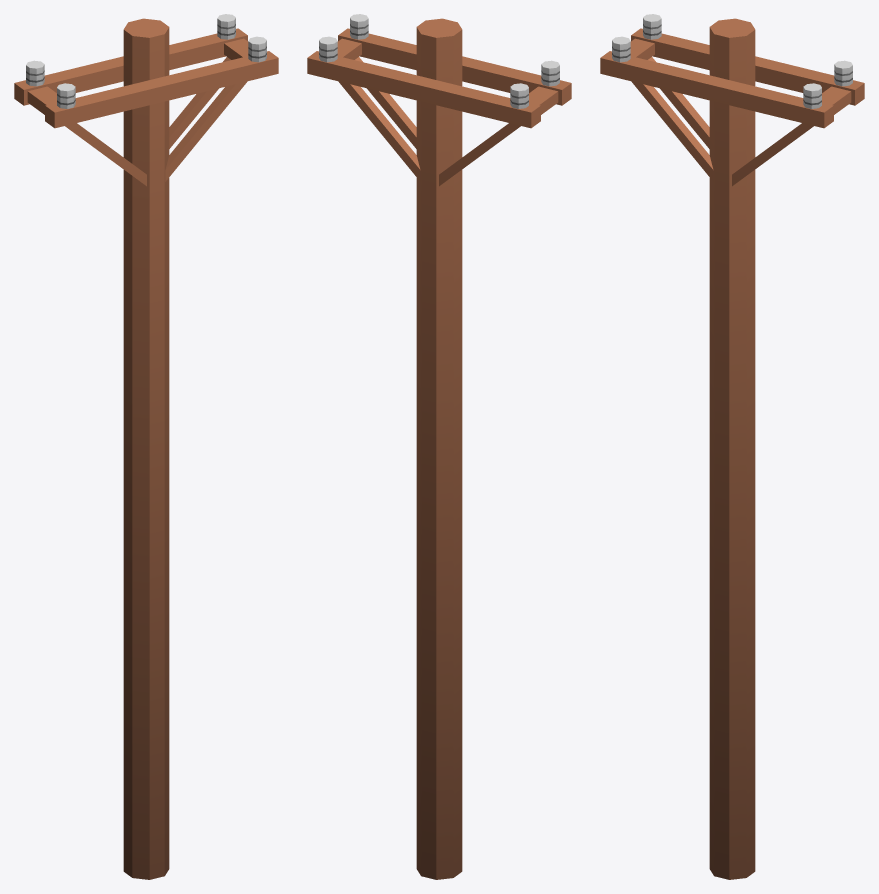
Rendered from electric pole.fbx.
3 renders of one model, left to right at view 1: azimuth 30°, elevation 25°; view 2: azimuth 150°, elevation 25°; view 3: azimuth 330°, elevation 25°, orthographic.
Visible parts, largest first — view 1: electric pole; view 2: electric pole; view 3: electric pole.
Part boxes in pixels (x1,y1,x2,y2): electric pole: (14,14,278,879); electric pole: (307,14,571,879); electric pole: (600,14,864,879).
Bounding box in the file's own units: 207 × 742 × 64.73.
